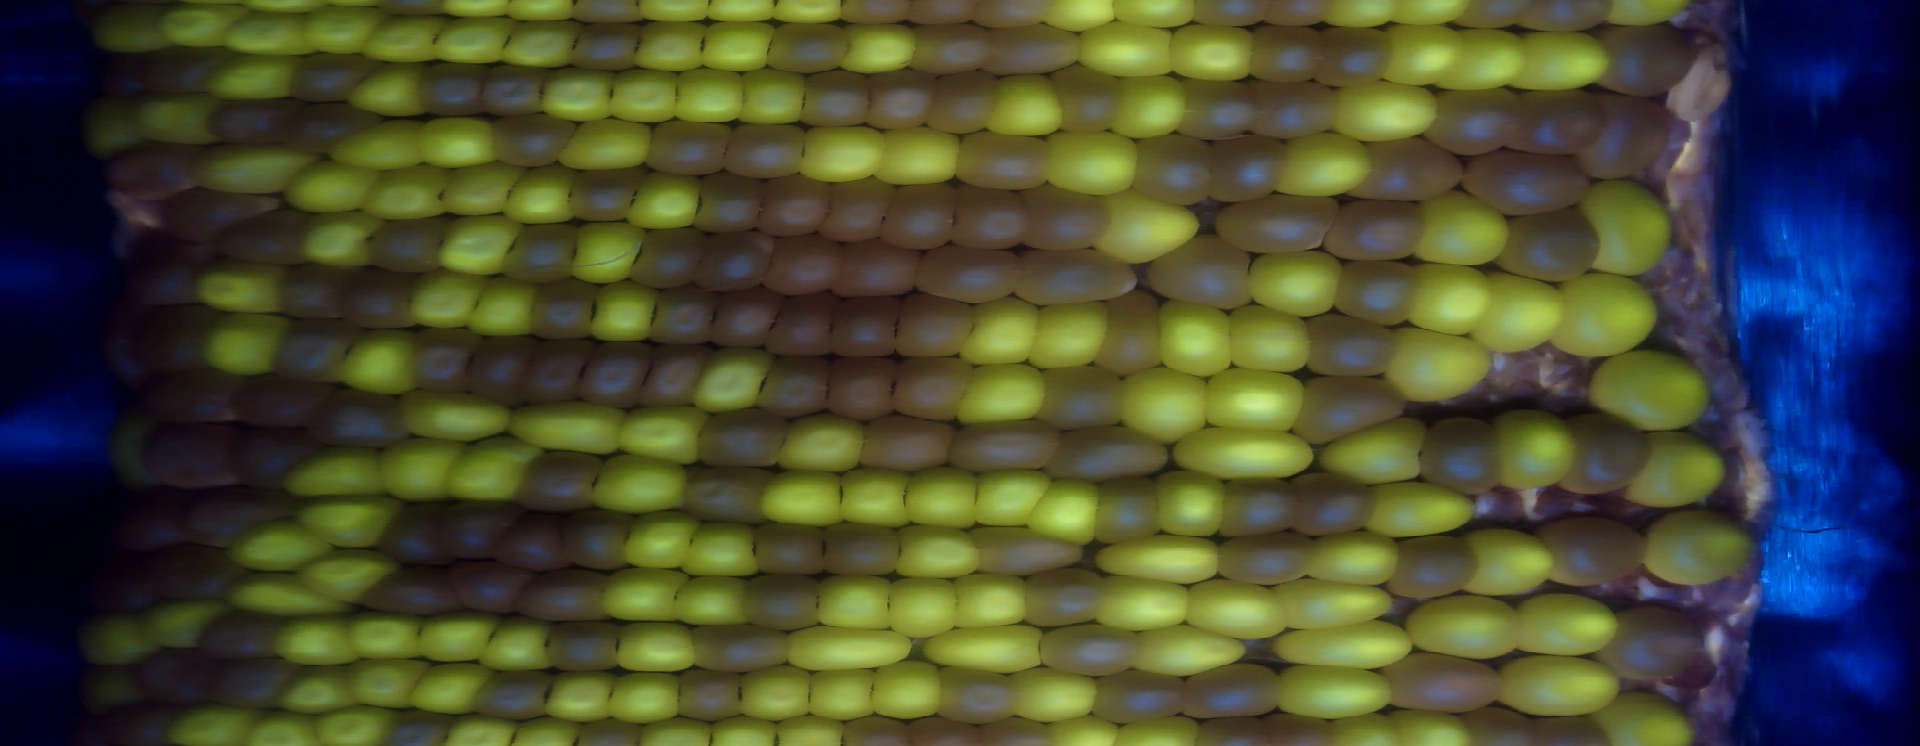fluorescent: (1587, 341, 1712, 432), (1583, 174, 1678, 282), (1556, 269, 1658, 367), (1402, 582, 1524, 660), (1640, 507, 1756, 586), (1315, 413, 1427, 490), (1499, 650, 1620, 719), (1178, 423, 1319, 481), (1396, 320, 1488, 407), (1479, 265, 1566, 355), (1096, 192, 1200, 267), (1419, 187, 1509, 274), (1119, 363, 1212, 443), (1633, 430, 1728, 510), (1093, 530, 1228, 586), (1207, 363, 1307, 437), (1275, 660, 1393, 722), (1276, 575, 1397, 633), (504, 396, 621, 456), (1182, 578, 1284, 646), (1278, 620, 1416, 670), (336, 323, 422, 402), (1245, 244, 1340, 316), (1330, 77, 1440, 138), (1520, 590, 1618, 659), (380, 432, 470, 506), (593, 448, 689, 517), (280, 443, 393, 502), (1498, 405, 1573, 492), (1133, 620, 1249, 676), (924, 622, 1046, 676), (982, 69, 1067, 146), (1363, 477, 1476, 534), (1404, 258, 1489, 334), (1223, 301, 1308, 377), (1518, 23, 1607, 96), (407, 387, 517, 445), (787, 622, 913, 673), (1464, 528, 1555, 598), (446, 435, 541, 501), (1044, 127, 1134, 197), (951, 364, 1049, 428), (223, 571, 350, 620), (1160, 295, 1233, 380), (1275, 134, 1371, 197), (1078, 18, 1178, 80), (298, 491, 402, 550), (1450, 16, 1524, 97), (1171, 18, 1258, 87), (869, 122, 962, 186), (1087, 572, 1191, 628), (1008, 657, 1096, 723), (1381, 20, 1466, 88), (965, 292, 1041, 367), (191, 141, 309, 190), (1029, 299, 1109, 370), (775, 413, 864, 477), (1155, 461, 1224, 541), (800, 122, 888, 186), (225, 519, 324, 576), (362, 159, 451, 222), (1310, 530, 1400, 592), (553, 118, 654, 171), (1594, 692, 1693, 746), (1114, 66, 1187, 140), (1029, 477, 1104, 546), (617, 404, 703, 465), (905, 461, 977, 533), (770, 461, 842, 533), (331, 118, 426, 171), (410, 657, 496, 717), (671, 570, 749, 635), (200, 314, 279, 377), (898, 521, 983, 579), (808, 572, 898, 628), (271, 614, 358, 671), (598, 565, 682, 624), (869, 657, 942, 725), (567, 218, 640, 285), (621, 510, 702, 571), (613, 617, 699, 675), (682, 519, 762, 581), (587, 277, 658, 345), (976, 465, 1047, 534), (419, 608, 491, 675), (438, 160, 523, 218), (350, 62, 431, 122), (444, 214, 520, 278), (142, 92, 231, 146), (289, 160, 373, 217), (198, 262, 283, 318), (542, 65, 623, 124), (309, 548, 400, 599), (951, 570, 1030, 630), (407, 266, 478, 332), (419, 113, 498, 171), (835, 464, 910, 527), (631, 167, 700, 233), (350, 606, 429, 665), (609, 65, 682, 127), (481, 616, 556, 677), (220, 9, 313, 58), (736, 64, 807, 127), (604, 669, 682, 726), (157, 2, 249, 51), (498, 20, 588, 70), (699, 345, 767, 412), (891, 572, 960, 637), (213, 53, 294, 107), (503, 165, 576, 225), (840, 20, 915, 77), (633, 20, 709, 76), (800, 661, 876, 718), (365, 9, 440, 65), (697, 20, 771, 76), (347, 654, 418, 713), (740, 661, 804, 724), (471, 274, 534, 338), (282, 665, 358, 717), (545, 670, 618, 723), (81, 614, 151, 669), (140, 601, 225, 646), (305, 2, 376, 55), (91, 1, 163, 53), (298, 214, 371, 265), (682, 65, 742, 125), (436, 16, 508, 64), (310, 703, 389, 746), (78, 107, 147, 152), (313, 708, 396, 745), (173, 709, 253, 746), (1393, 710, 1474, 746), (1112, 718, 1198, 746), (768, 717, 844, 746), (246, 713, 313, 746), (444, 718, 522, 746), (1335, 713, 1398, 746), (513, 718, 587, 746), (640, 719, 711, 746), (1047, 720, 1119, 746), (709, 719, 773, 746)
nonfluorescent: (1047, 420, 1182, 488), (1147, 235, 1261, 314), (1467, 146, 1592, 214), (1583, 93, 1676, 185), (1489, 207, 1609, 278), (1294, 375, 1408, 450), (1009, 245, 1141, 307), (1210, 194, 1342, 255), (1545, 511, 1651, 587), (1354, 134, 1468, 203), (1569, 409, 1651, 502), (1596, 20, 1693, 97), (912, 238, 1029, 303), (138, 366, 252, 432), (1604, 606, 1704, 681), (1038, 356, 1130, 437), (820, 236, 929, 304), (1379, 653, 1500, 713), (1247, 70, 1340, 143), (1294, 311, 1392, 381), (131, 423, 238, 486), (851, 409, 955, 474), (1389, 529, 1482, 601), (126, 303, 217, 376), (1419, 416, 1498, 501), (1025, 619, 1142, 675), (310, 380, 403, 451), (1134, 129, 1218, 206), (949, 130, 1057, 190), (1505, 85, 1604, 149), (980, 17, 1082, 80), (516, 567, 618, 630), (1202, 127, 1286, 203), (1326, 201, 1425, 265), (1287, 472, 1379, 540), (331, 262, 418, 334), (947, 420, 1060, 475), (1092, 664, 1193, 726), (126, 235, 211, 309), (965, 523, 1082, 576), (1018, 183, 1104, 254), (263, 317, 358, 382), (361, 567, 460, 628), (1184, 660, 1287, 719), (682, 459, 771, 527), (1311, 20, 1396, 91), (1097, 292, 1163, 382), (1429, 89, 1521, 154), (820, 516, 907, 583), (817, 352, 899, 423), (212, 202, 305, 265), (686, 619, 789, 675), (1057, 58, 1124, 143), (879, 176, 958, 250), (947, 181, 1029, 251), (1333, 260, 1416, 330), (700, 407, 789, 472), (264, 260, 354, 323), (184, 488, 294, 539), (823, 292, 902, 361), (698, 227, 775, 298), (756, 171, 835, 240), (113, 143, 207, 201), (1247, 22, 1329, 87), (291, 96, 380, 156), (558, 506, 636, 575), (768, 224, 835, 303), (524, 446, 604, 512), (644, 113, 730, 174), (500, 499, 571, 572), (1021, 566, 1104, 628), (1221, 529, 1313, 586), (1178, 78, 1258, 143), (289, 44, 369, 108), (1220, 475, 1299, 539), (1092, 477, 1162, 549), (377, 501, 451, 570), (208, 657, 298, 713), (894, 292, 969, 359), (929, 661, 1018, 718), (924, 69, 996, 138), (152, 543, 241, 598), (768, 20, 850, 80), (173, 185, 287, 228), (862, 61, 931, 132), (631, 227, 705, 292), (138, 644, 213, 709), (891, 356, 967, 420), (491, 108, 573, 167), (500, 219, 572, 285), (441, 497, 516, 561), (744, 572, 820, 635), (754, 519, 833, 579), (823, 171, 888, 244), (580, 337, 645, 409), (669, 659, 741, 724), (238, 369, 317, 428), (233, 423, 299, 492), (562, 167, 639, 225), (765, 292, 829, 363), (200, 611, 282, 666), (545, 614, 618, 675), (693, 167, 760, 233), (800, 70, 869, 134), (760, 353, 824, 423), (207, 96, 298, 145), (473, 669, 555, 723), (447, 559, 520, 619), (415, 58, 487, 118), (726, 119, 807, 171), (113, 494, 186, 551), (463, 333, 520, 405), (572, 18, 639, 80), (708, 292, 779, 348), (147, 44, 224, 96), (371, 218, 441, 274), (917, 22, 988, 77), (649, 339, 703, 412), (520, 341, 580, 404), (533, 278, 596, 337), (481, 60, 544, 118), (660, 283, 718, 345), (86, 59, 151, 113), (418, 327, 470, 391), (1527, 1, 1611, 39), (1464, 707, 1536, 746), (902, 713, 986, 746), (1258, 713, 1340, 746), (116, 702, 174, 746), (109, 551, 153, 608), (1187, 718, 1265, 746), (973, 717, 1046, 746), (391, 709, 447, 746), (1534, 717, 1607, 745), (844, 717, 909, 746), (1456, 1, 1515, 33), (583, 717, 636, 746)
